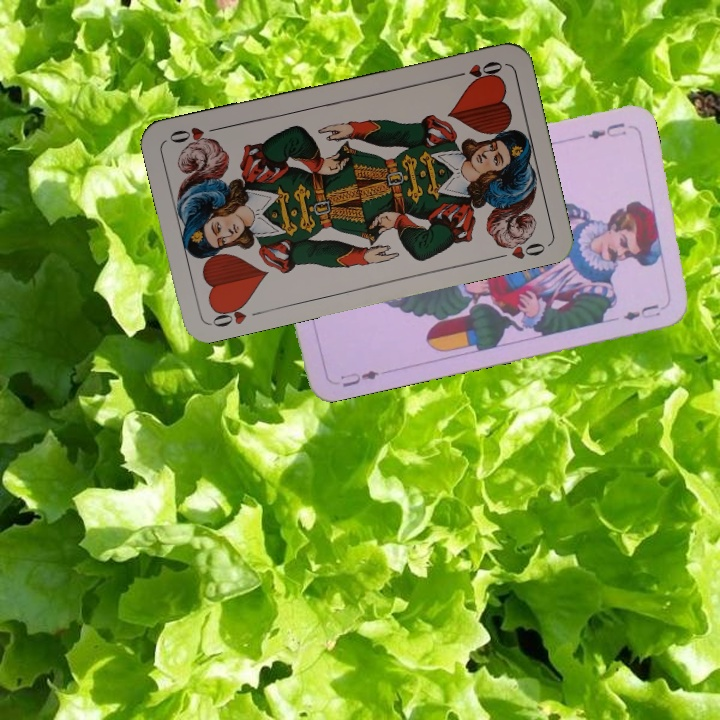EU: (336, 366, 382, 390), (584, 118, 628, 142)
HO: (448, 57, 505, 82), (208, 298, 251, 330)
